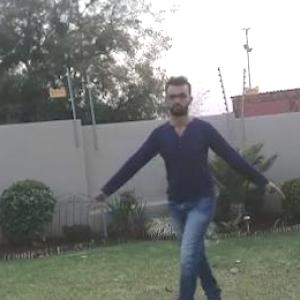land: (97, 77, 283, 299)
